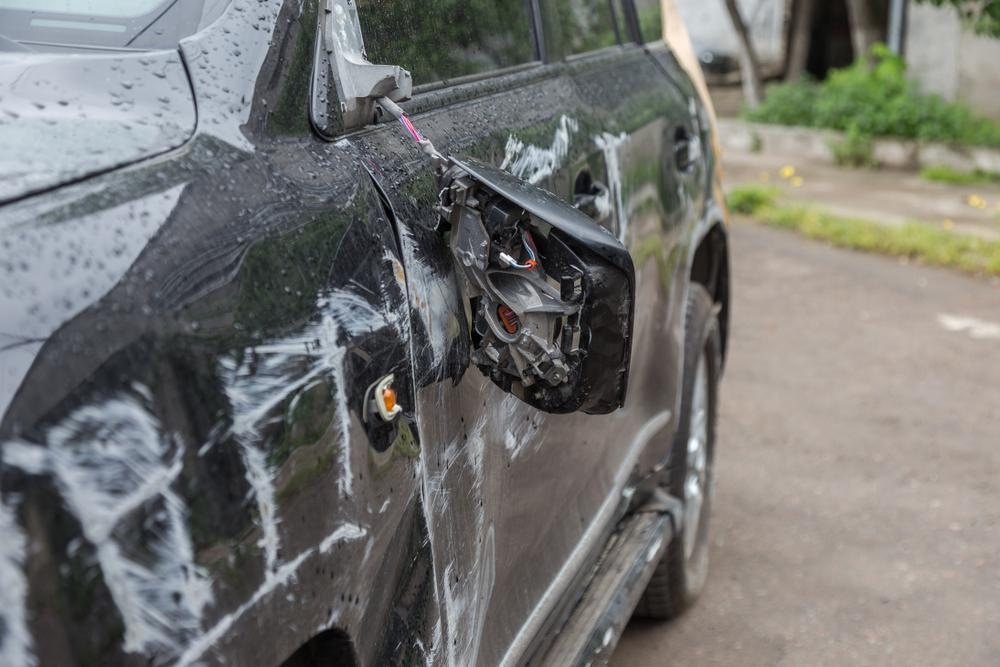scratch: (0, 241, 449, 667), (397, 216, 555, 667), (500, 118, 579, 184)
